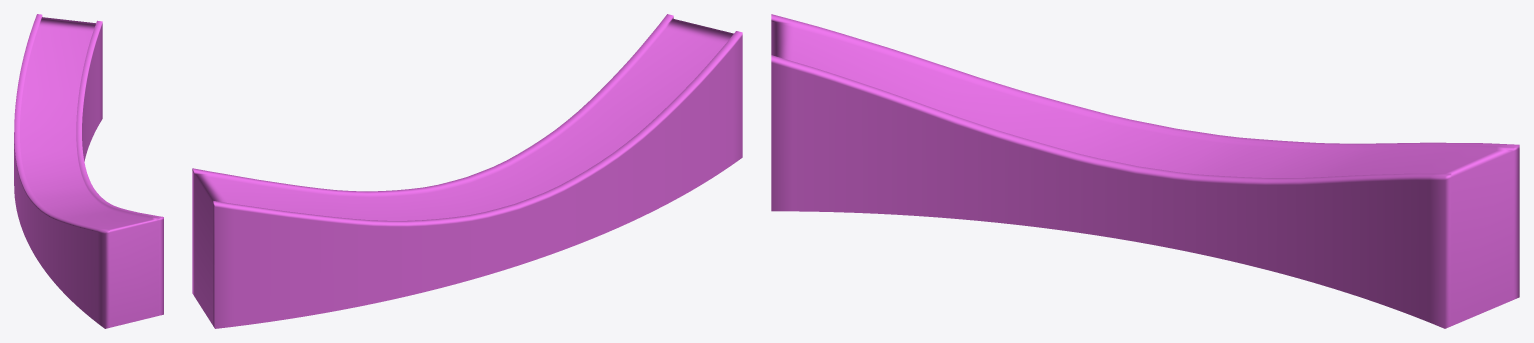
Rendered from RD_Dip_Tall1_45.fbx.
3 renders of one model, left to right at view 1: azimuth 30°, elevation 25°; view 2: azimuth 150°, elevation 25°; view 3: azimuth 270°, elevation 25°, orthographic. The views are drawn at different scales.
Parts seen in each view (by area): view 1: Mesh; view 2: Mesh; view 3: Mesh.
Boxes of the visible parts, box(x1,y1,x2,y2) form: Mesh: box(14, 14, 163, 328); Mesh: box(192, 14, 742, 328); Mesh: box(771, 14, 1519, 328).
Bounding box in the file's own units: 1743 × 764 × 3395.
